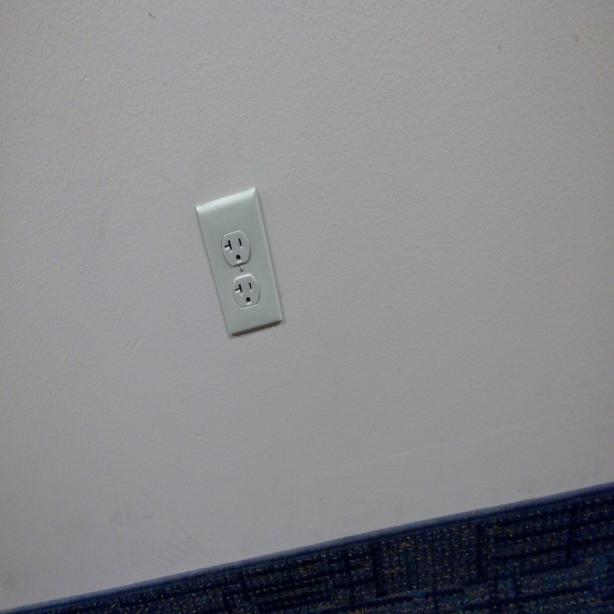typeb: (220, 228, 252, 266), (230, 277, 260, 309)
